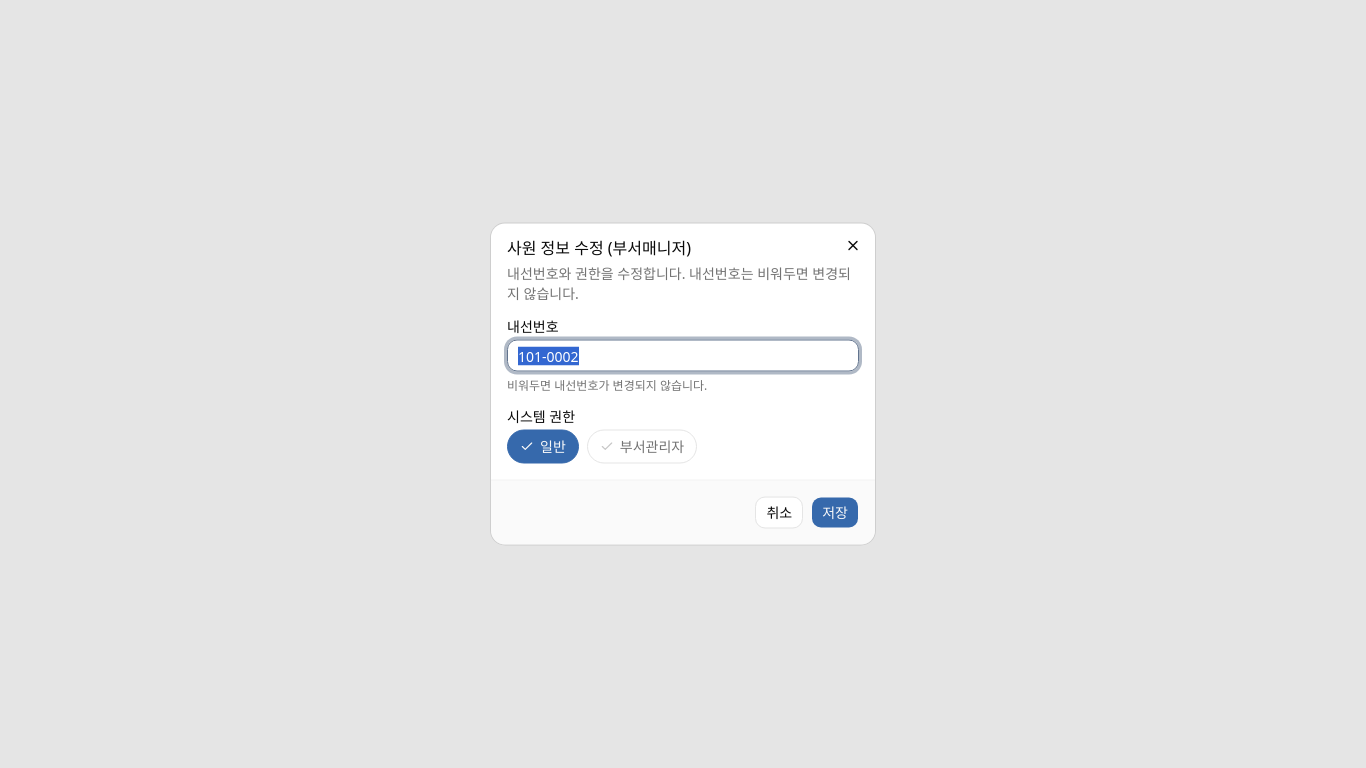
Test: DeptManagedInfoDialog - 제출 › 클라 사전검증 실패(권한 전체 해제)면 네트워크 요청 없이 에러 메시지를 보여준다
Click the checkbox labelled "일반" at coordinates (543, 446), box [507,430,579,464]
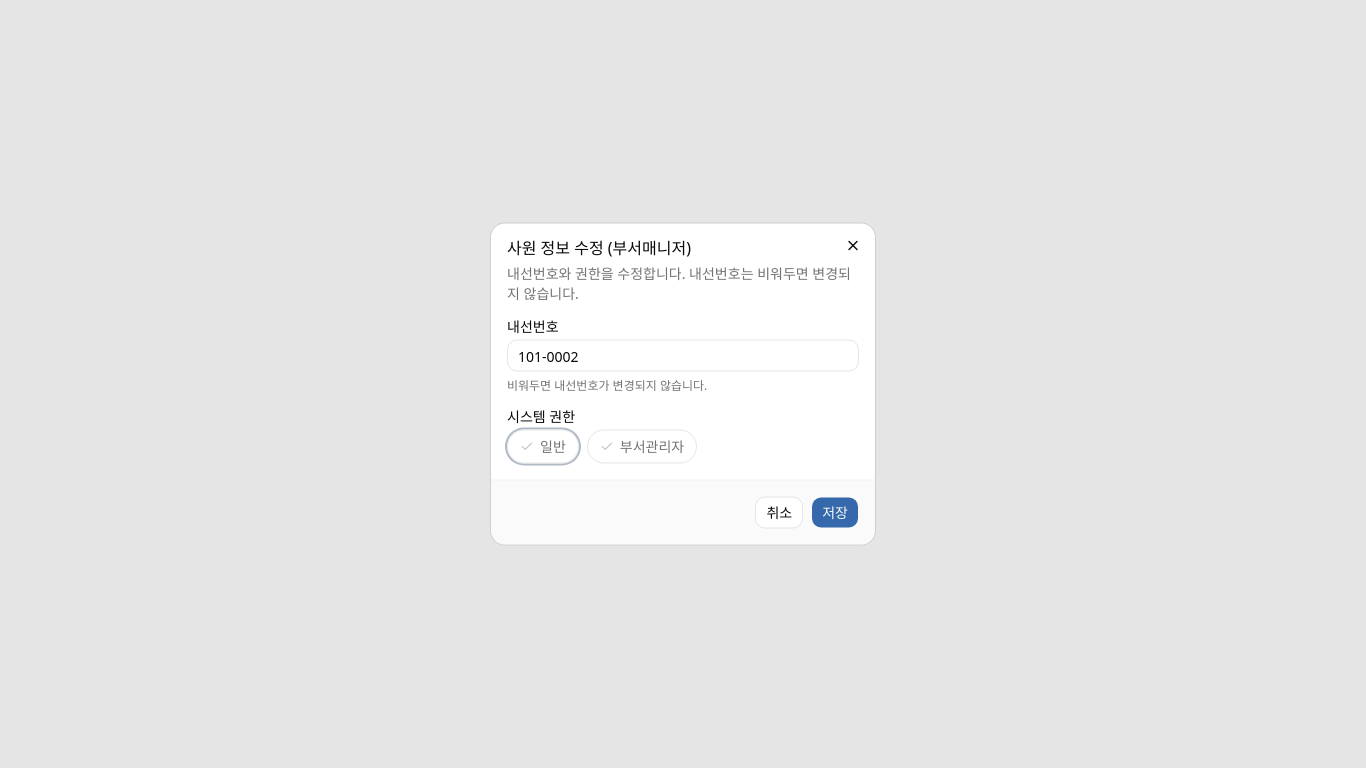
Click the button "저장" at coordinates (835, 512), box [811,496,859,528]
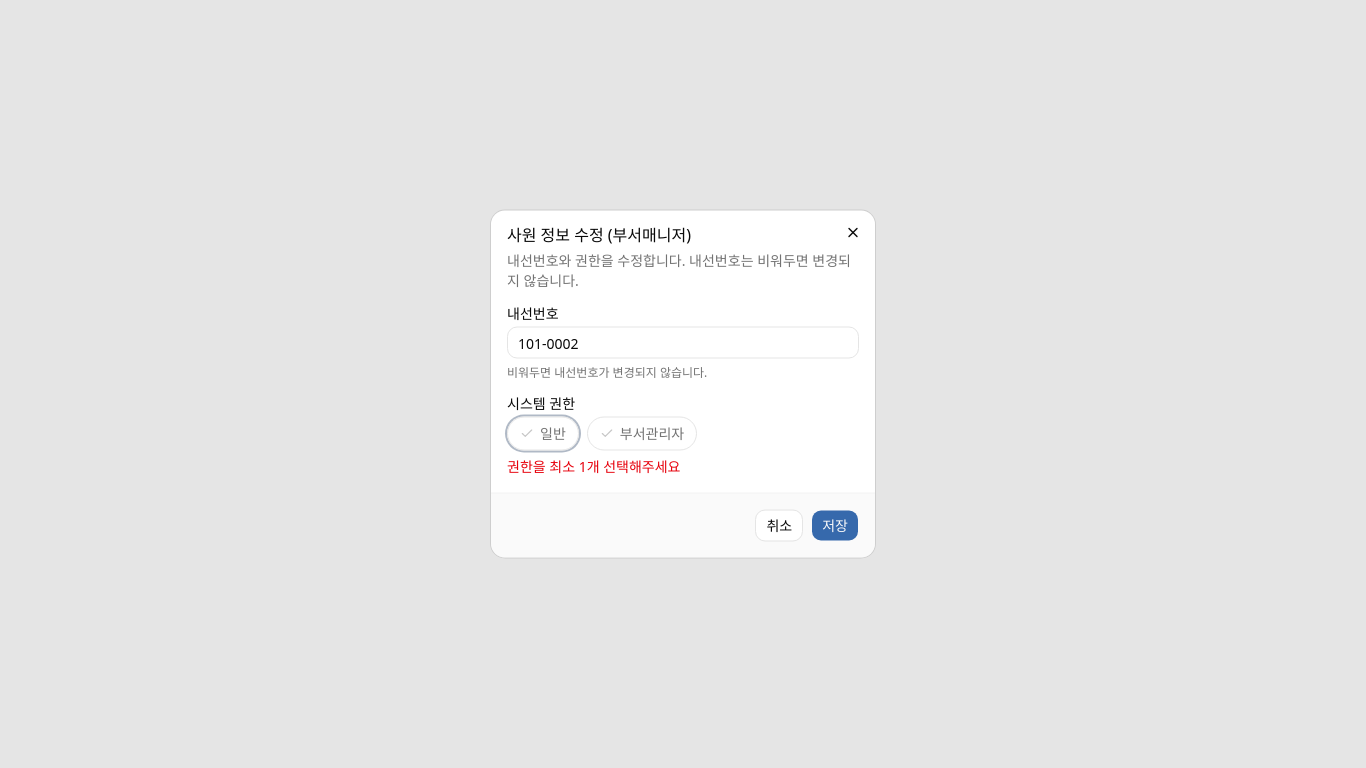
Check: the text "권한을 최소 1개 선택해주세요" is shown, box [507,456,680,476]
